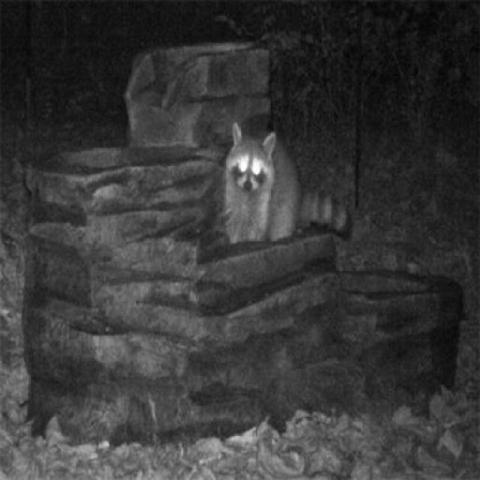small_animal: (225, 120, 353, 246)
